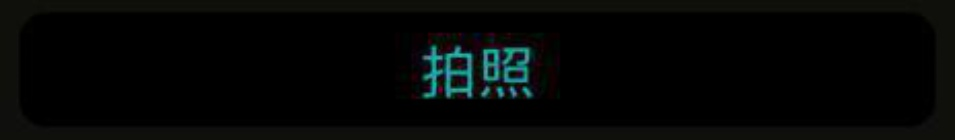Button: (1, 1, 954, 139)
